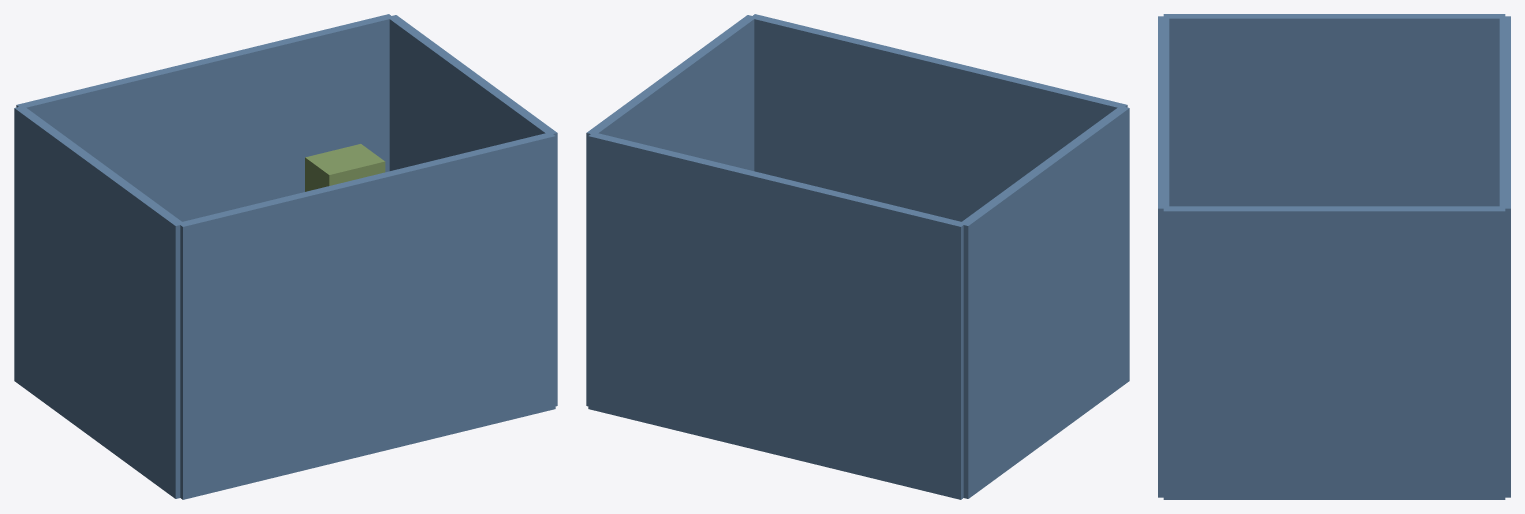
3 renders of one model, left to right at view 1: azimuth 30°, elevation 25°; view 2: azimuth 150°, elevation 25°; view 3: azimuth 270°, elevation 25°, orthographic. The views are drawn at different scales.
Parts seen in each view (by area): view 1: wall-south, wall-west, wall-north, wall-east, cabinet-1; view 2: wall-north, wall-west, wall-south, wall-east; view 3: wall-east, wall-west, wall-north, wall-south.
Part boxes in pixels (x1,y1,x2,y2): wall-south: (178, 132, 555, 499); wall-west: (14, 106, 183, 498); wall-north: (16, 14, 393, 221); wall-east: (389, 15, 557, 406); cabinet-1: (305, 144, 385, 191); wall-north: (588, 132, 965, 499); wall-west: (961, 106, 1129, 498); wall-south: (750, 14, 1127, 221); wall-east: (586, 15, 754, 406); wall-east: (1163, 206, 1505, 499); wall-west: (1163, 14, 1505, 206); wall-north: (1499, 16, 1510, 497); wall-south: (1158, 16, 1169, 497).
Bounding box in the file's own units: 4100 × 2800 × 3100.
